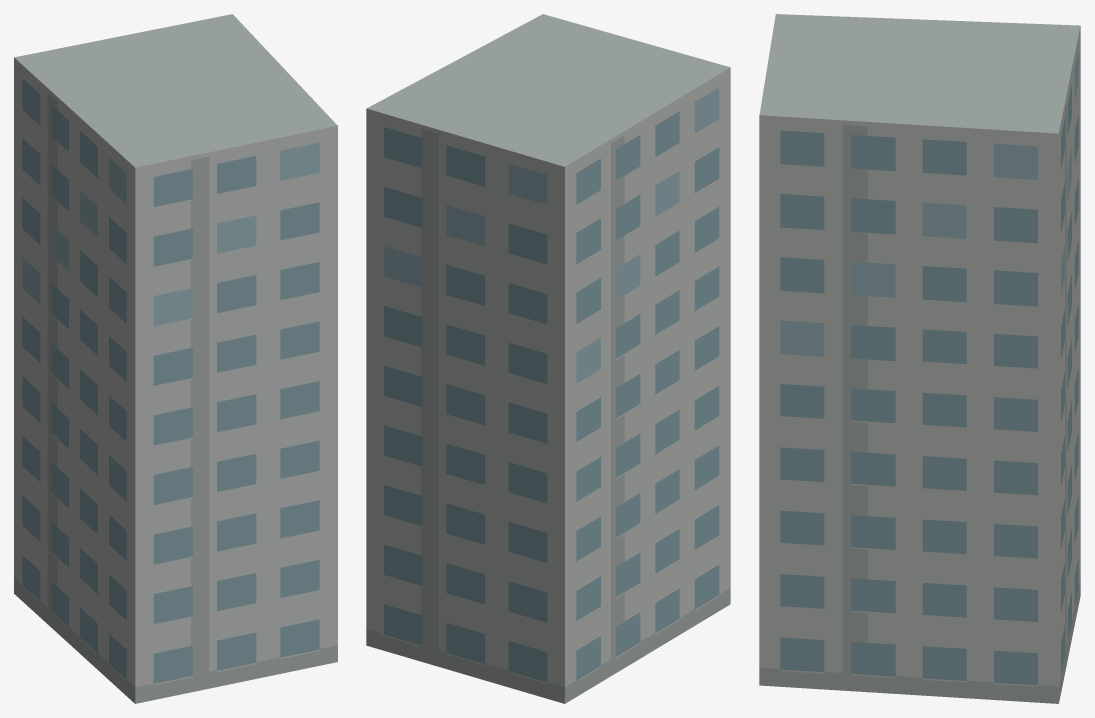
The model's file is residential-a57028ac-9f2b-4271-bb17-29f765778639.glb.
3 renders of one model, left to right at view 1: azimuth 30°, elevation 25°; view 2: azimuth 150°, elevation 25°; view 3: azimuth 270°, elevation 25°, orthographic. The views are drawn at different scales.
Parts seen in each view (by area): view 1: residential-a57028ac-9f2b-4271-bb17-29f765778639.tmp; view 2: residential-a57028ac-9f2b-4271-bb17-29f765778639.tmp; view 3: residential-a57028ac-9f2b-4271-bb17-29f765778639.tmp.
Boxes of the visible parts, box(x1,y1,x2,y2) form: residential-a57028ac-9f2b-4271-bb17-29f765778639.tmp: box(14, 14, 337, 703); residential-a57028ac-9f2b-4271-bb17-29f765778639.tmp: box(366, 14, 730, 703); residential-a57028ac-9f2b-4271-bb17-29f765778639.tmp: box(759, 14, 1080, 703).
Size of the model in its own units: 13.51 by 30 by 15.32.
